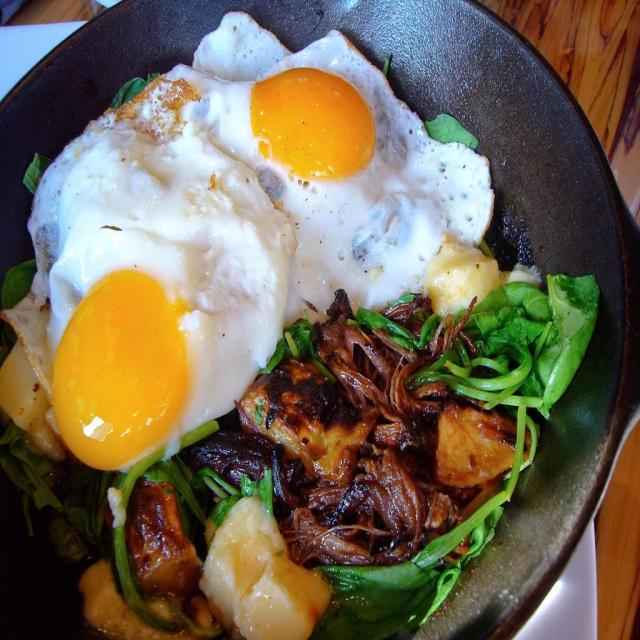Egg: (0, 77, 296, 469), (160, 12, 492, 311)
